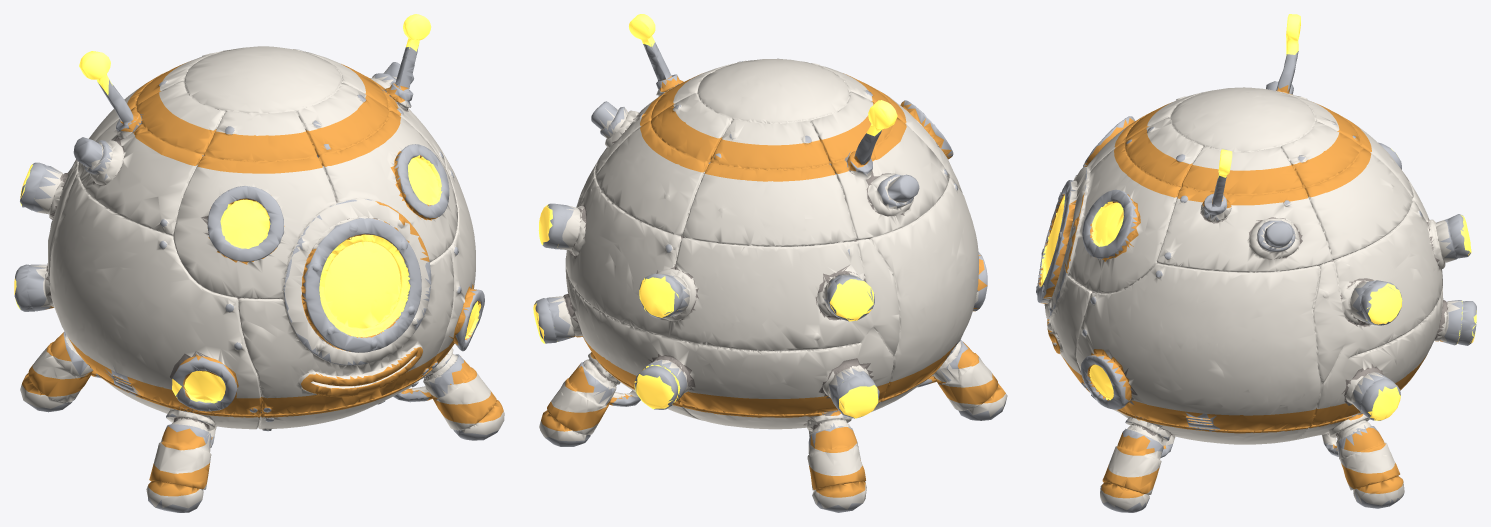
The model's file is ship_comet.glb.
3 views of the same model, side by side, from view 1: azimuth 30°, elevation 25°; view 2: azimuth 150°, elevation 25°; view 3: azimuth 270°, elevation 25° (orthographic). The views are drawn at different scales.
Parts seen in each view (by area): view 1: Comet_Body, Comet_Orange, Comet_Metal, Comet_Glass, Comet_Tip, Comet_Seam; view 2: Comet_Body, Comet_Orange, Comet_Metal, Comet_Glass, Comet_Seam, Comet_Tip; view 3: Comet_Body, Comet_Orange, Comet_Metal, Comet_Glass, Comet_Seam, Comet_Tip.
Part boxes in pixels (x1=…): Comet_Body: x1=20, y1=46, x2=504, y2=508; Comet_Orange: x1=22, y1=62, x2=503, y2=496; Comet_Metal: x1=14, y1=47, x2=501, y2=512; Comet_Glass: x1=14, y1=155, x2=481, y2=403; Comet_Tip: x1=79, y1=14, x2=431, y2=95; Comet_Seam: x1=45, y1=89, x2=436, y2=429; Comet_Body: x1=539, y1=58, x2=1007, y2=509; Comet_Orange: x1=541, y1=73, x2=1005, y2=497; Comet_Metal: x1=534, y1=42, x2=1006, y2=512; Comet_Glass: x1=533, y1=204, x2=878, y2=418; Comet_Seam: x1=563, y1=83, x2=978, y2=429; Comet_Tip: x1=629, y1=14, x2=897, y2=136; Comet_Body: x1=1040, y1=87, x2=1460, y2=510; Comet_Orange: x1=1038, y1=85, x2=1443, y2=498; Comet_Metal: x1=1036, y1=51, x2=1476, y2=512; Comet_Glass: x1=1040, y1=149, x2=1476, y2=420; Comet_Seam: x1=1045, y1=194, x2=1447, y2=436; Comet_Tip: x1=1218, y1=14, x2=1300, y2=177.
Bounding box in the file's own units: 1.71 × 1.71 × 1.9.
